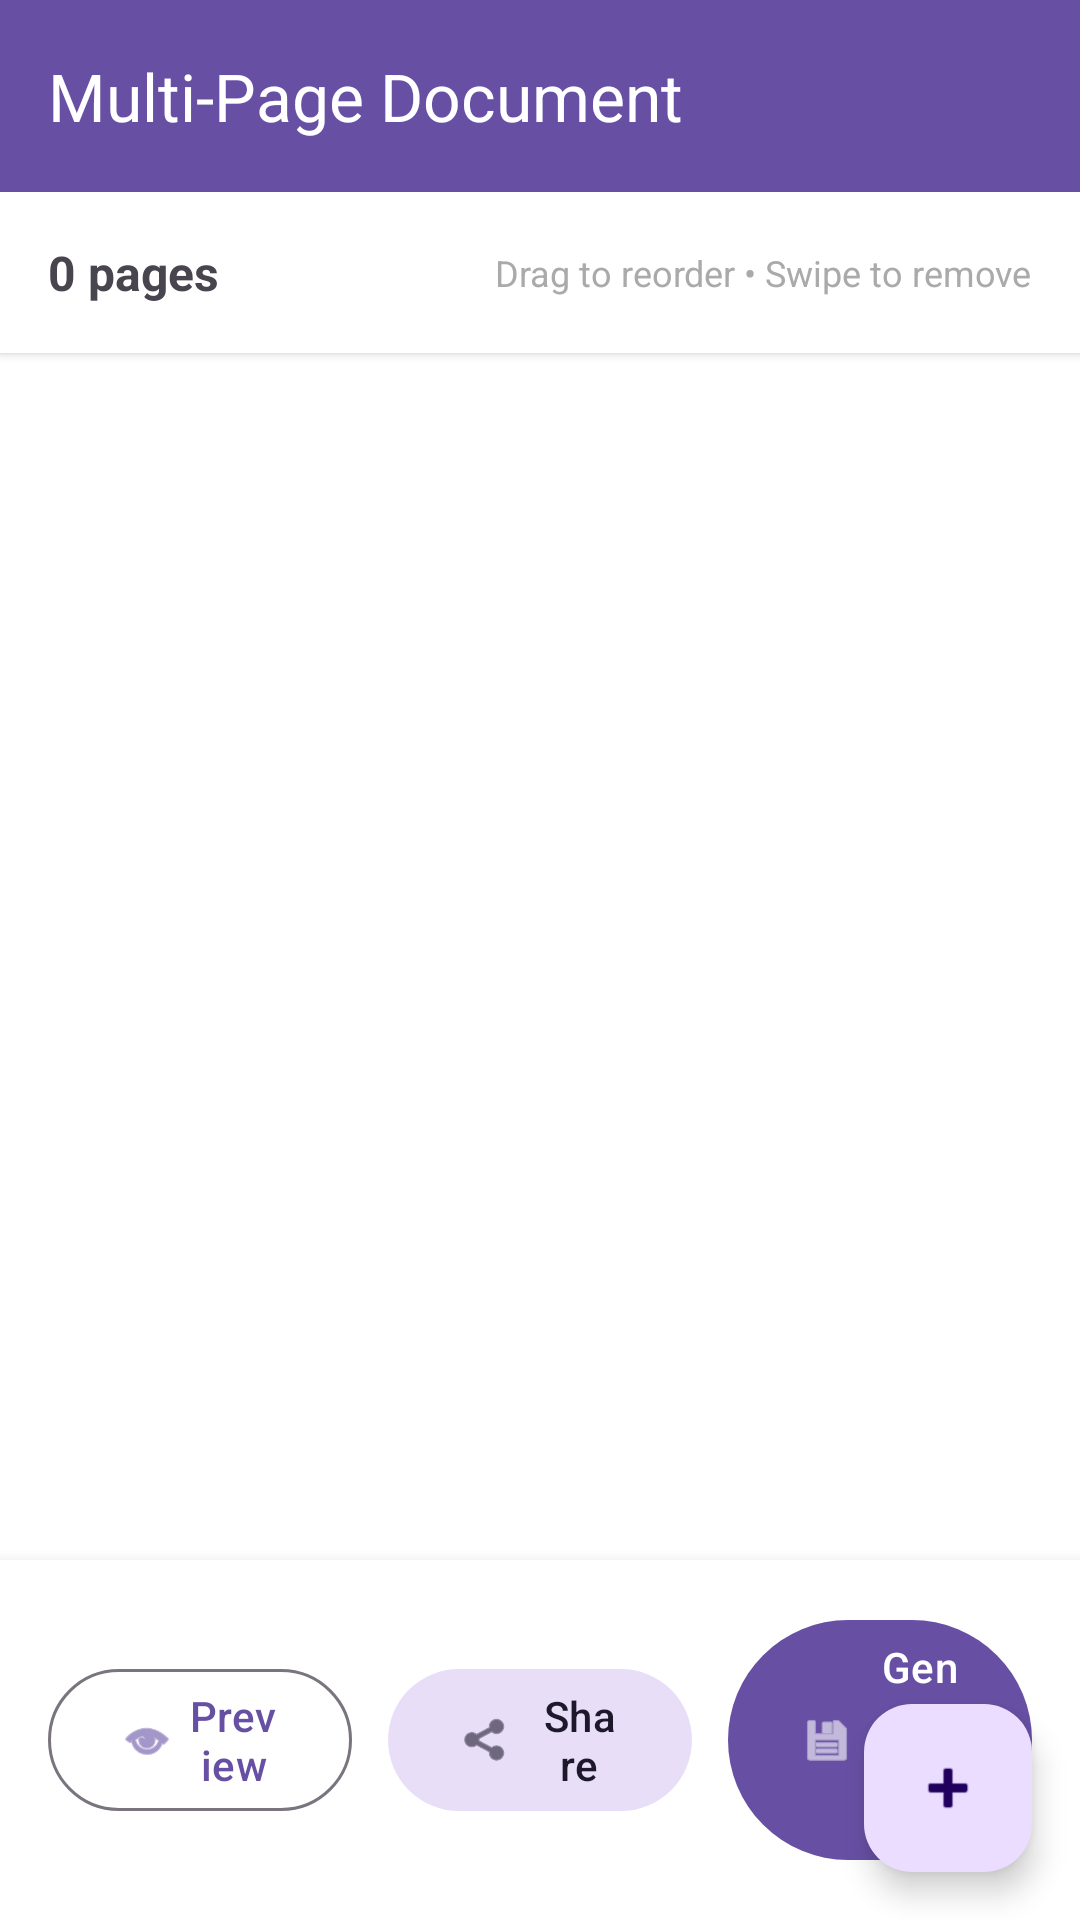

Icons on this 1080 x 1920 Android screen, each with the point to tap as (x,y):
Add page: (948,1788)
